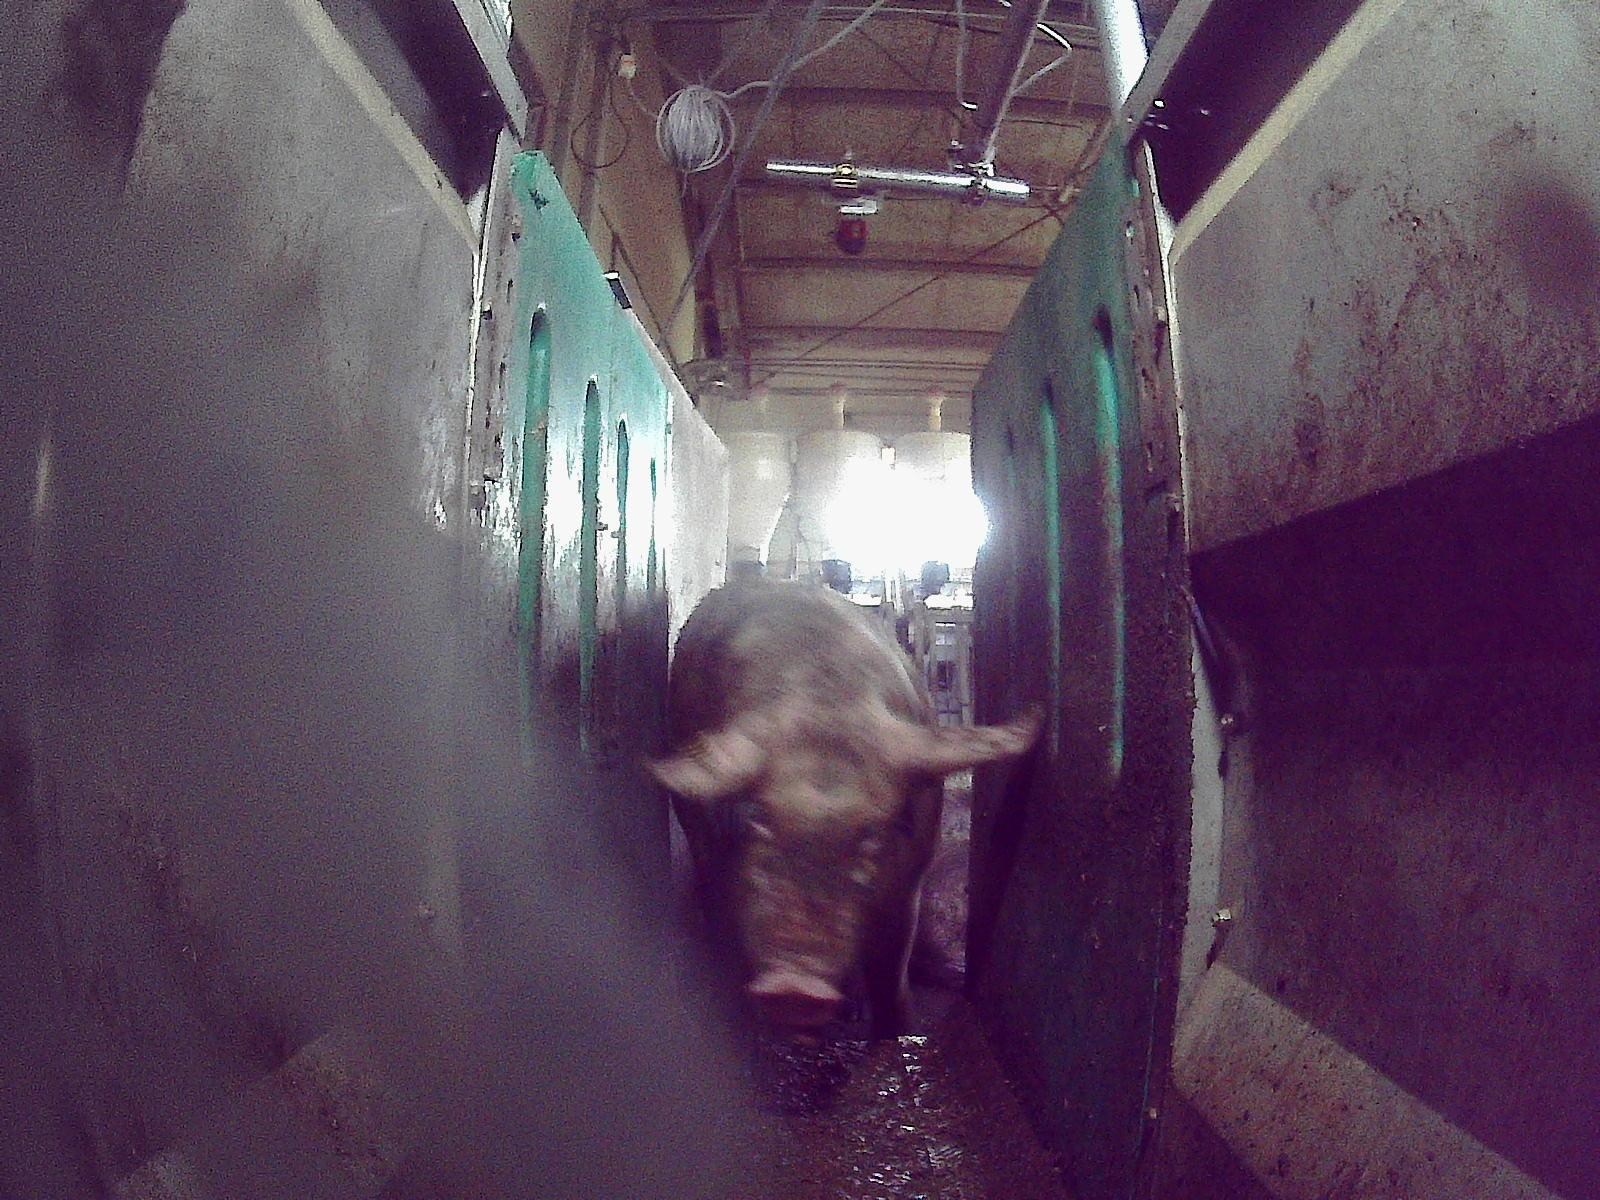Face: (715, 696, 917, 1028)
